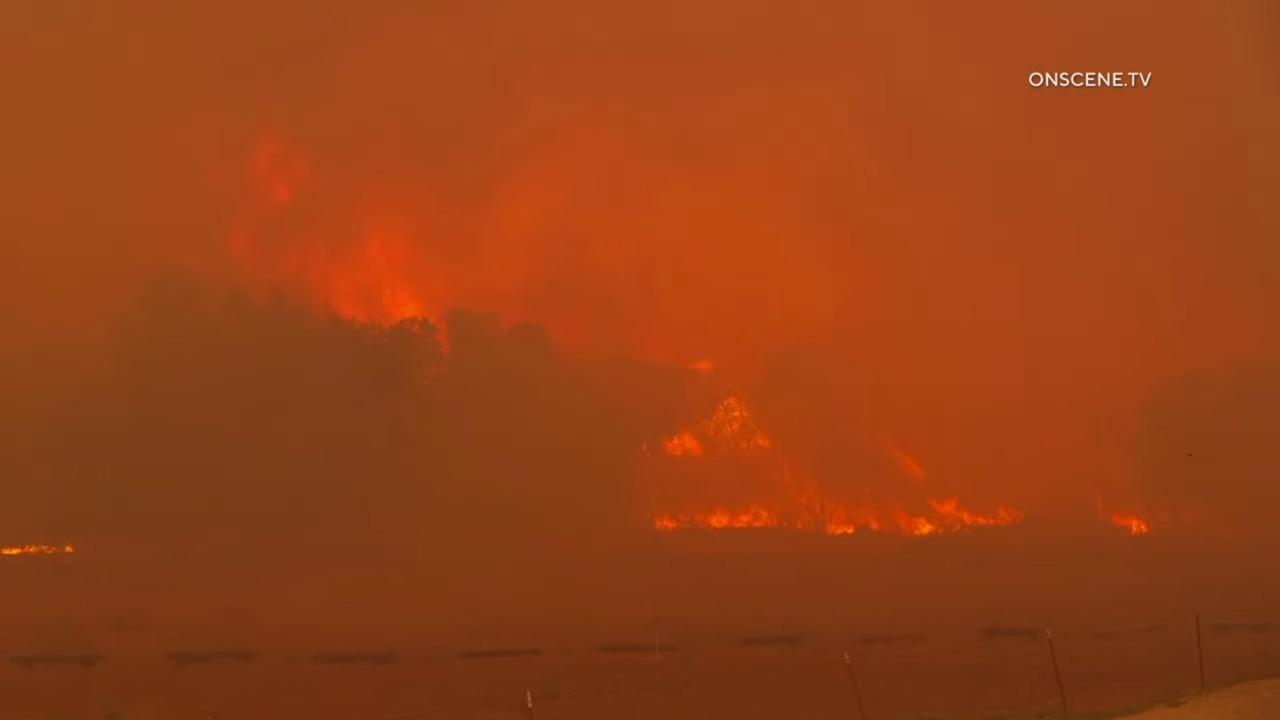fire: (645, 494, 1029, 541), (318, 237, 458, 356), (653, 387, 782, 461), (1104, 504, 1154, 538), (0, 537, 79, 558), (681, 353, 714, 374)
smoke: (0, 0, 1280, 720)
